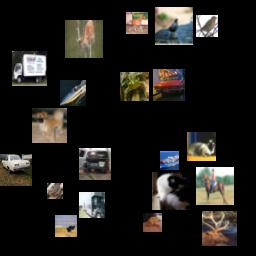automobile: (153, 69, 185, 101), (0, 154, 32, 186)
bird: (155, 7, 193, 45), (55, 215, 77, 237), (196, 15, 218, 37)
cat: (152, 172, 190, 210), (187, 132, 216, 161), (143, 213, 162, 232)
deer: (65, 20, 103, 58), (202, 211, 237, 246)
dog: (32, 108, 67, 143)
frog: (120, 72, 149, 101), (47, 183, 63, 199)
ship: (60, 80, 86, 106), (160, 151, 179, 170)
truck: (12, 51, 47, 86), (79, 148, 111, 180), (79, 192, 105, 218)
